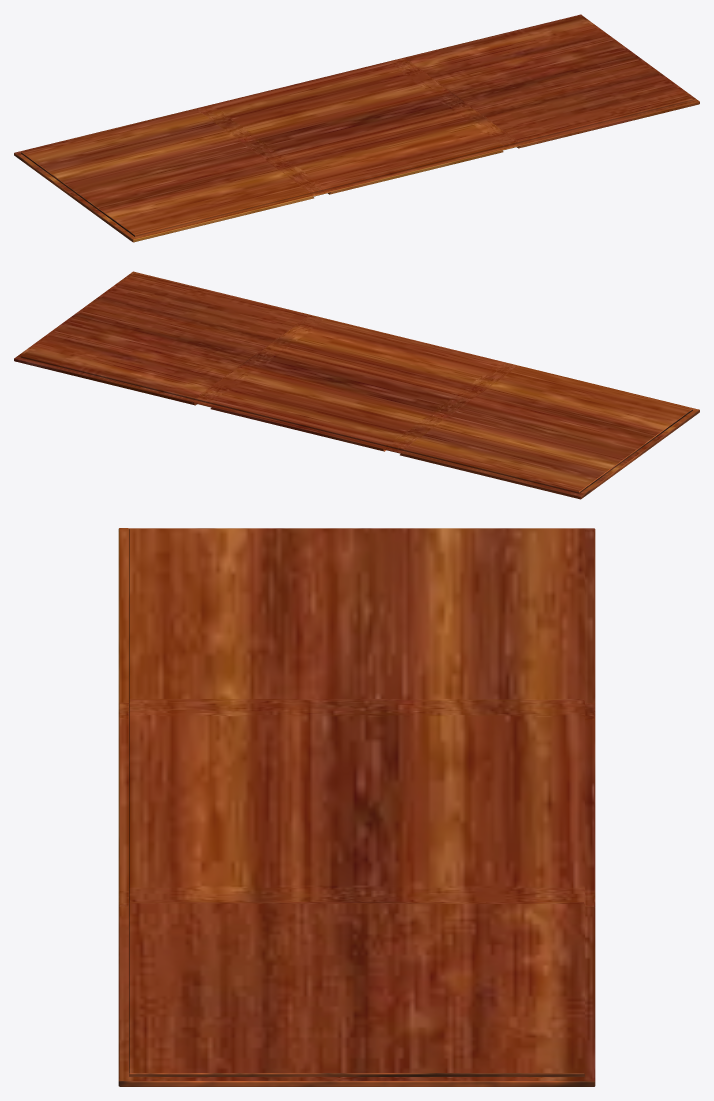
File: SJ_J_cengban_01.FBX
3 views of the same model, one above another, from view 1: azimuth 30°, elevation 25°; view 2: azimuth 150°, elevation 25°; view 3: azimuth 270°, elevation 25° (orthographic). The views are drawn at different scales.
Parts seen in each view (by area): view 1: SJ_J_cengban_01; view 2: SJ_J_cengban_01; view 3: SJ_J_cengban_01.
Boxes of the visible parts, box(x1,y1,x2,y2) form: SJ_J_cengban_01: box(14, 14, 699, 242); SJ_J_cengban_01: box(14, 271, 699, 499); SJ_J_cengban_01: box(118, 528, 595, 1086).
Bounding box in the file's own units: 101 × 0.8 × 36.6.
Materials: 2 (2 with a texture image).
